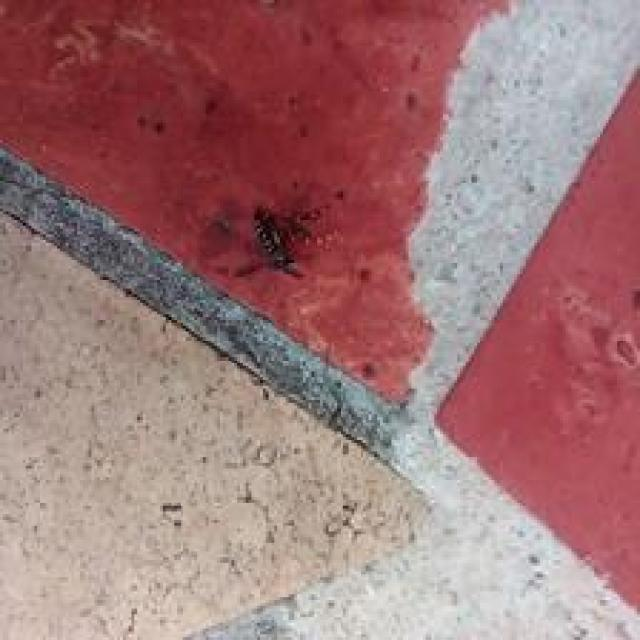Aedes albopictus: (238, 202, 322, 282)
